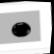correct: (7, 17, 35, 42)
